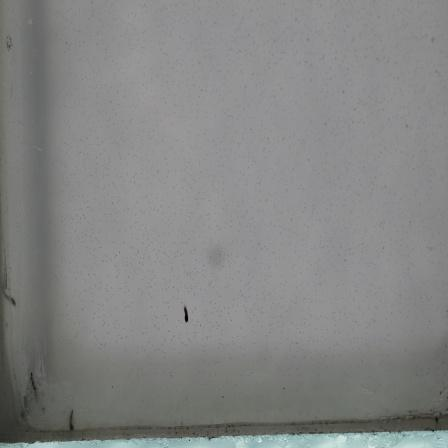Jentik-Nyamuk: (63, 407, 79, 436), (179, 302, 193, 328)
